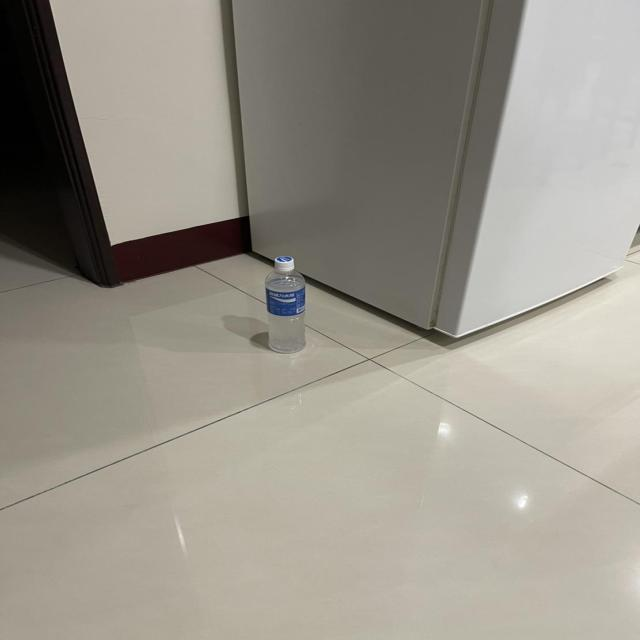bottle: (258, 251, 309, 360)
